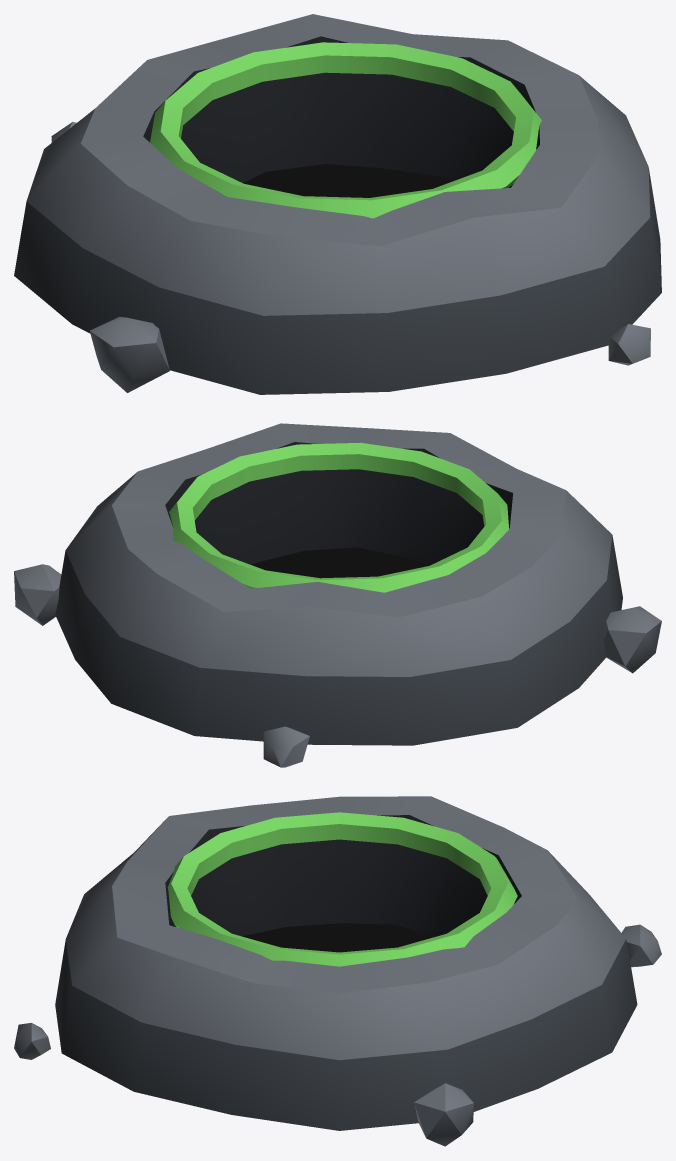
Rendered from geyser.glb.
3 renders of one model, top to bottom at view 1: azimuth 30°, elevation 25°; view 2: azimuth 150°, elevation 25°; view 3: azimuth 270°, elevation 25°, orthographic. The views are drawn at different scales.
Parts seen in each view (by area): view 1: Body, Rim_glow; view 2: Body, Rim_glow; view 3: Body, Rim_glow.
Part boxes in pixels (x1=…): Body: x1=14, y1=14, x2=661, y2=394; Rim_glow: x1=150, y1=42, x2=541, y2=218; Body: x1=14, y1=423, x2=661, y2=767; Rim_glow: x1=169, y1=442, x2=509, y2=592; Body: x1=14, y1=796, x2=661, y2=1146; Rim_glow: x1=167, y1=812, x2=517, y2=966.
Size of the model in its own units: 1.76 by 0.4382 by 1.78.
